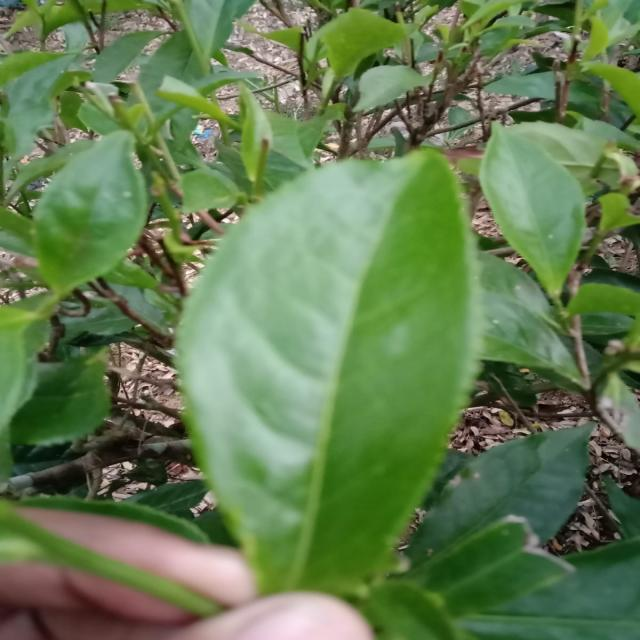Category C 4-7 days: (160, 119, 494, 637)
